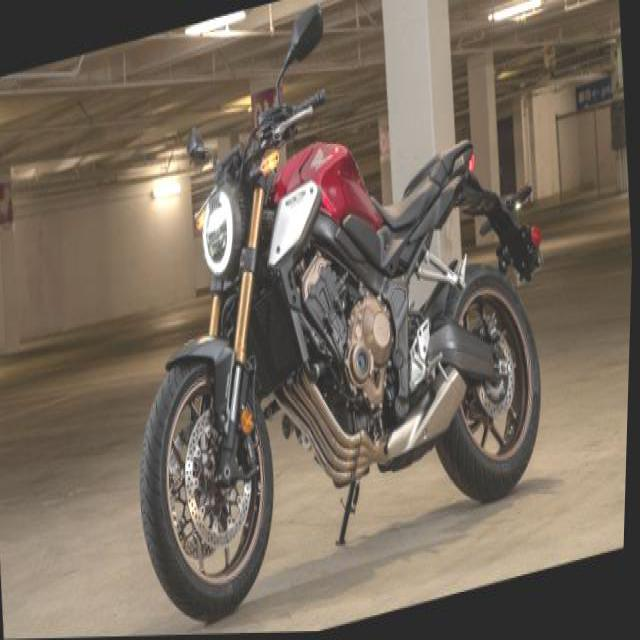CB650R: (114, 65, 566, 635)
